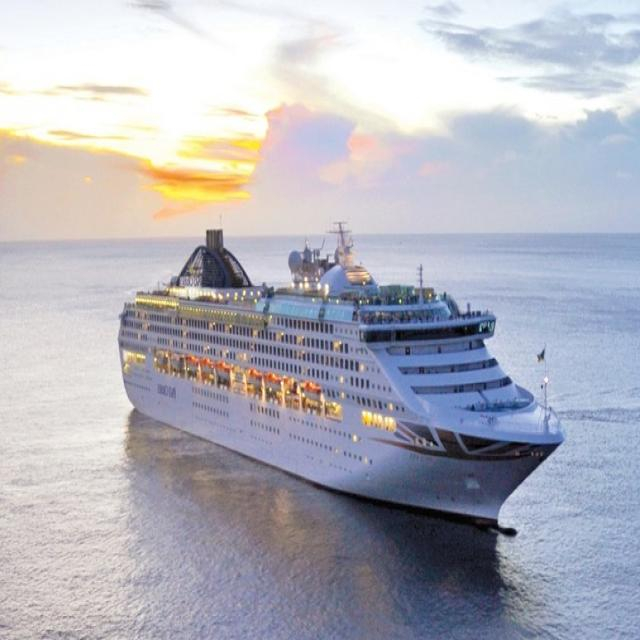passenger ship: (115, 208, 577, 530)
